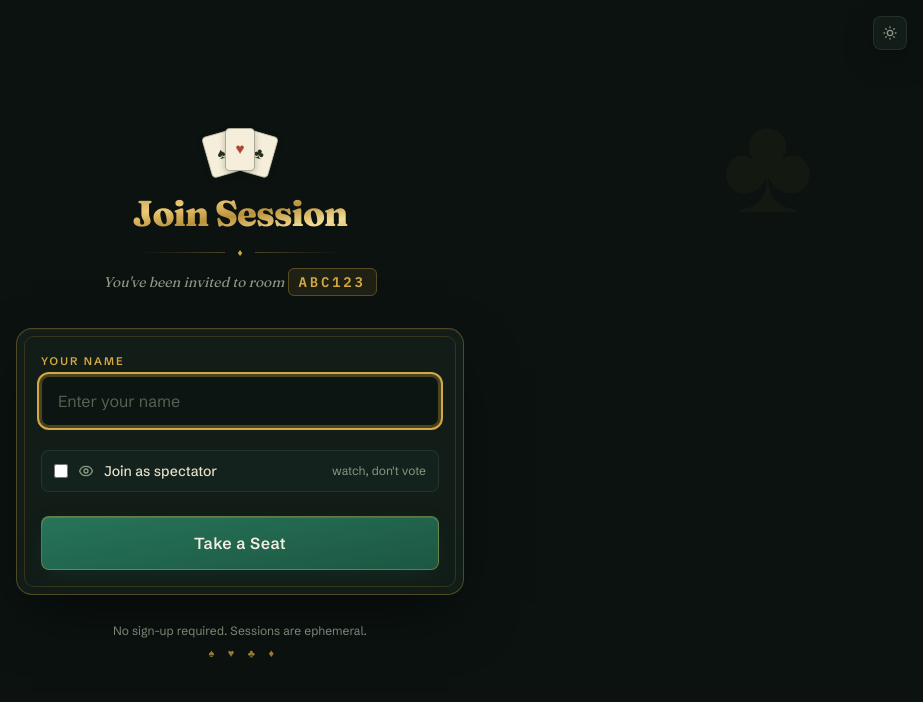
it: Join page › shows custom error message on failed join
Type "Charlie" into the field labelled "Your Name".
click(240, 400); type("Charlie")  # box [41,376,439,426]
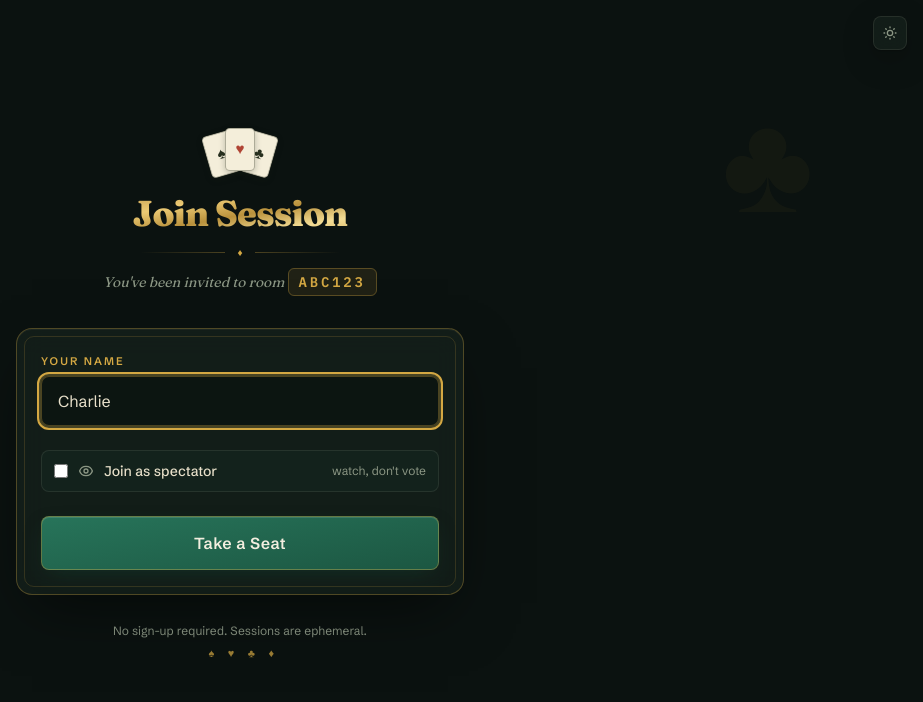
Click the button "Take a Seat".
click(240, 542)  # box [41,516,439,570]
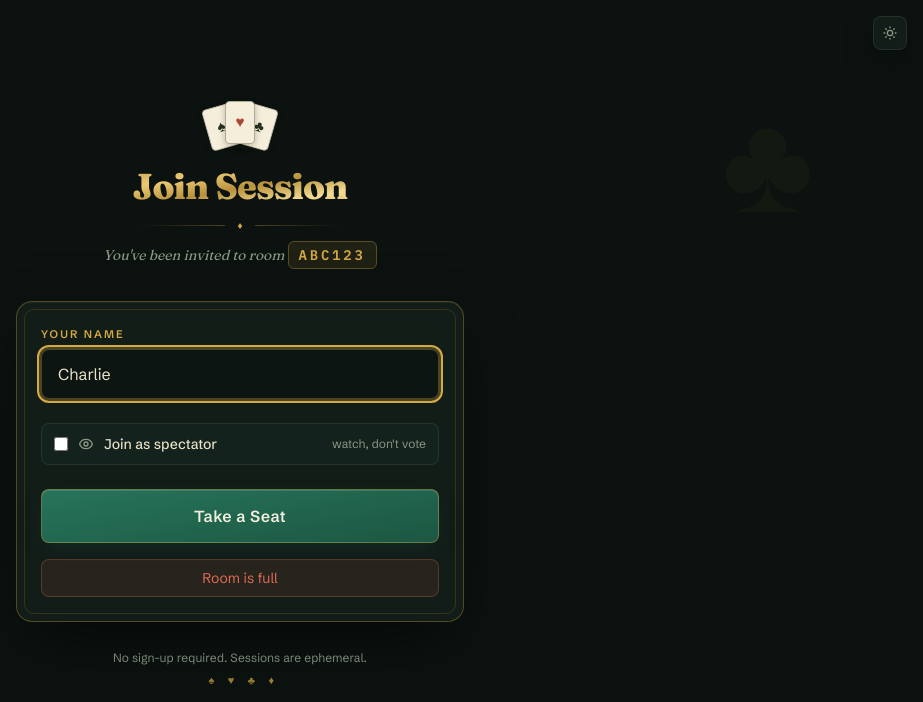
Now the text "Room is full" is shown, box [202,568,278,586]
